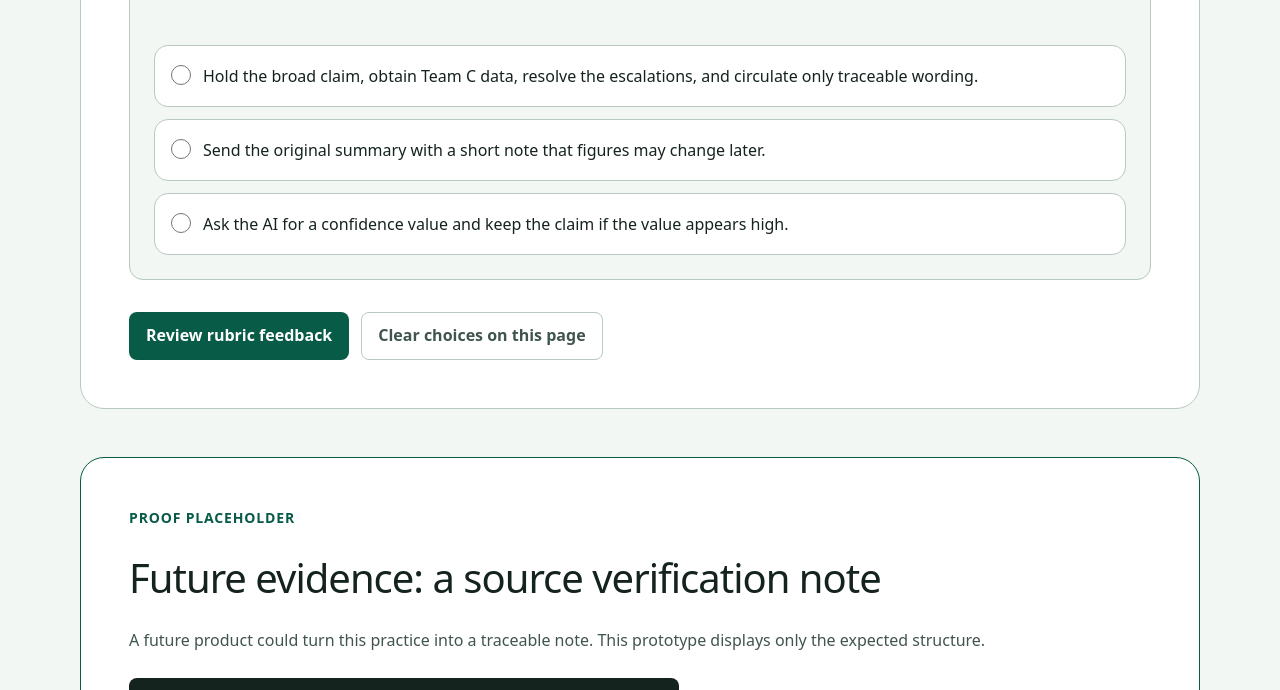
Test: source-verification lesson prototype › focuses an inline error and keeps passive or incomplete viewing at zero XP
The image size is (1280, 690).
(page scrolled)
Step 1. Click the button "Review rubric feedback" → [239, 336], box [129, 312, 349, 360]
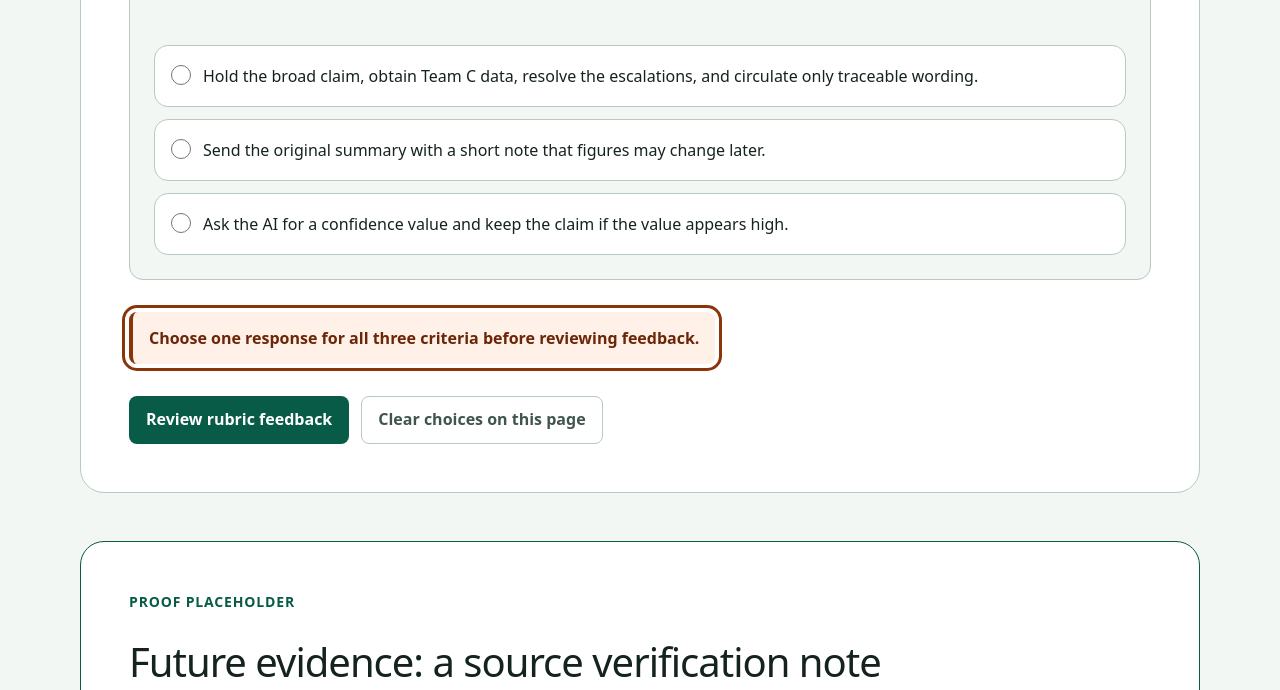
Expected: the message reads "Choose one response for all three criteria before reviewing feedback.", [149, 327, 699, 349]
